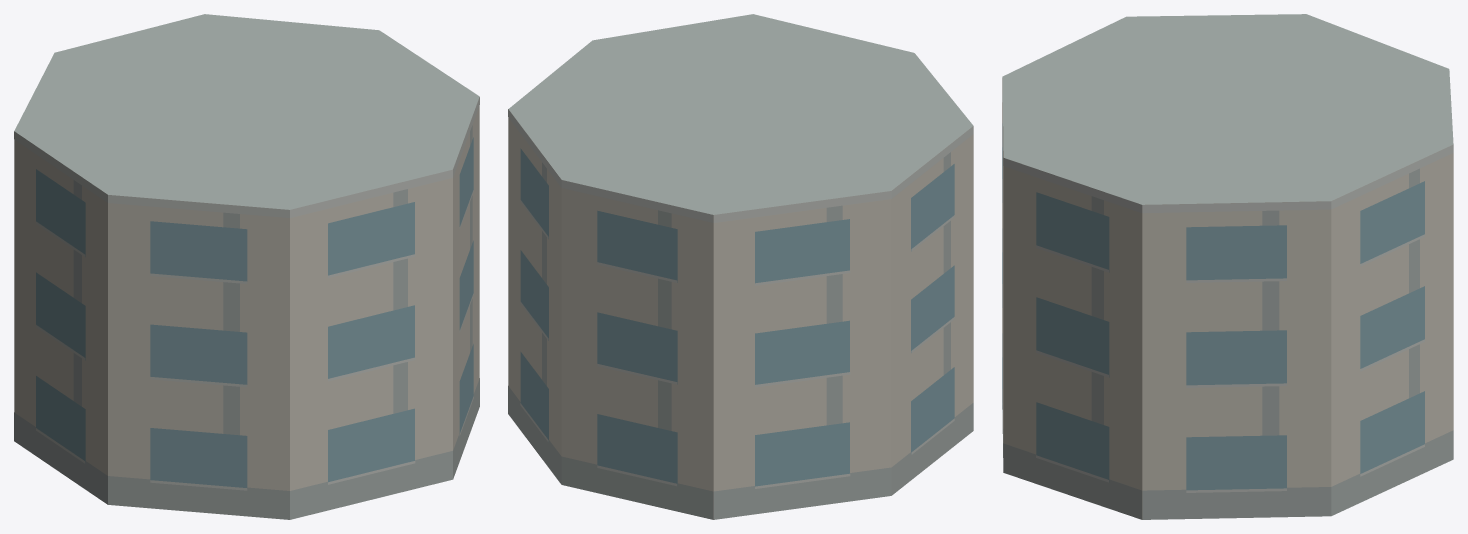
The model's file is survey-upis-32517983.glb.
3 views of the same model, side by side, from view 1: azimuth 30°, elevation 25°; view 2: azimuth 150°, elevation 25°; view 3: azimuth 270°, elevation 25° (orthographic). The views are drawn at different scales.
Parts seen in each view (by area): view 1: survey-upis-32517983.tmp; view 2: survey-upis-32517983.tmp; view 3: survey-upis-32517983.tmp.
Boxes of the visible parts, box(x1,y1,x2,y2) form: survey-upis-32517983.tmp: box(14, 14, 479, 519); survey-upis-32517983.tmp: box(508, 14, 973, 519); survey-upis-32517983.tmp: box(1002, 14, 1453, 519).
Size of the model in its own units: 11.9 by 9.15 by 11.89.
